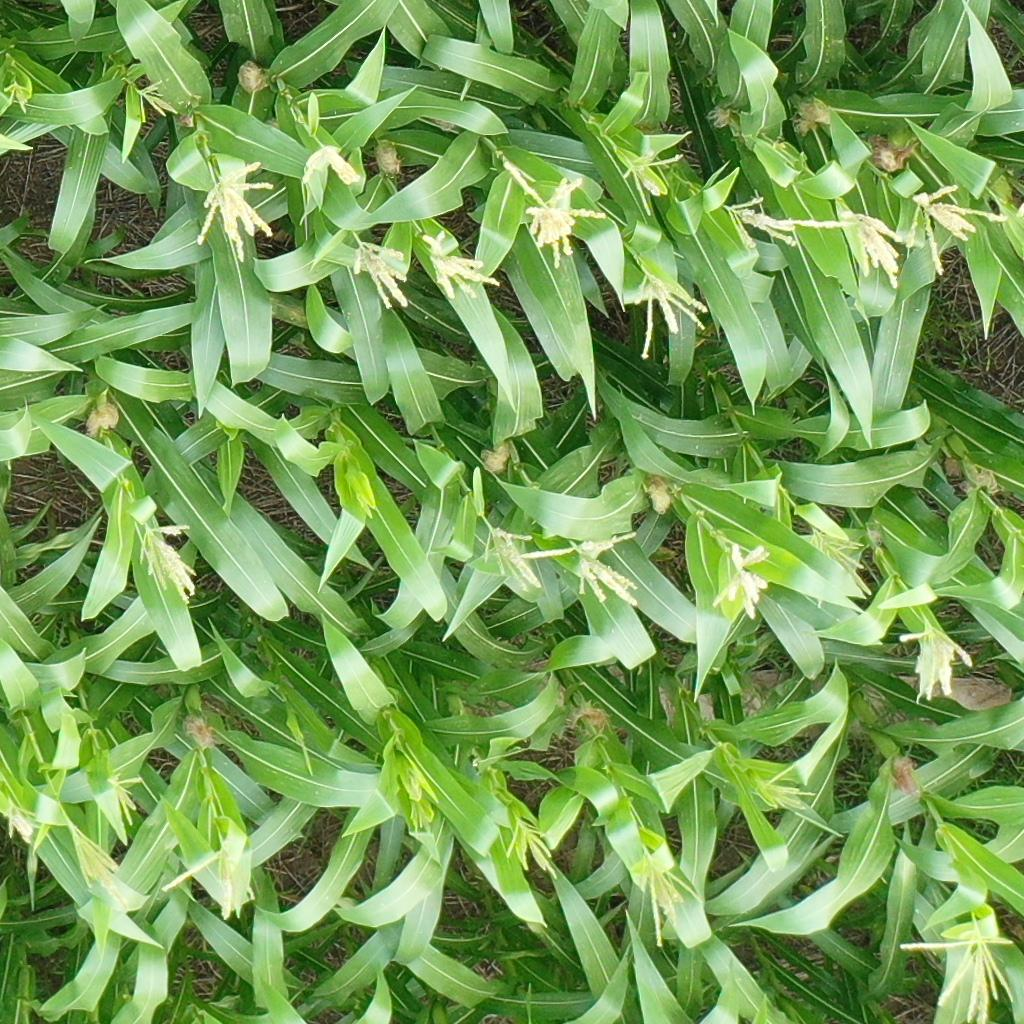Tassel: (896, 918, 1015, 1024), (503, 158, 611, 269), (520, 525, 643, 611), (159, 832, 255, 928), (195, 155, 277, 264), (909, 181, 1004, 275), (630, 261, 710, 366), (632, 842, 703, 954), (724, 194, 848, 253), (419, 225, 503, 304), (900, 618, 974, 707), (843, 209, 926, 288), (134, 522, 200, 604), (70, 823, 129, 909), (715, 541, 773, 624), (620, 147, 684, 219), (347, 240, 411, 310), (480, 523, 543, 591), (503, 815, 562, 883), (755, 764, 819, 814), (810, 524, 867, 576), (300, 143, 359, 188), (105, 771, 146, 825), (132, 78, 180, 124), (5, 802, 37, 841), (2, 77, 32, 114)
